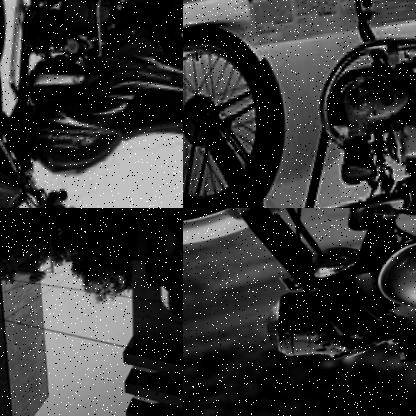bike: (183, 0, 416, 208), (183, 208, 416, 416)
car: (0, 208, 154, 264)
